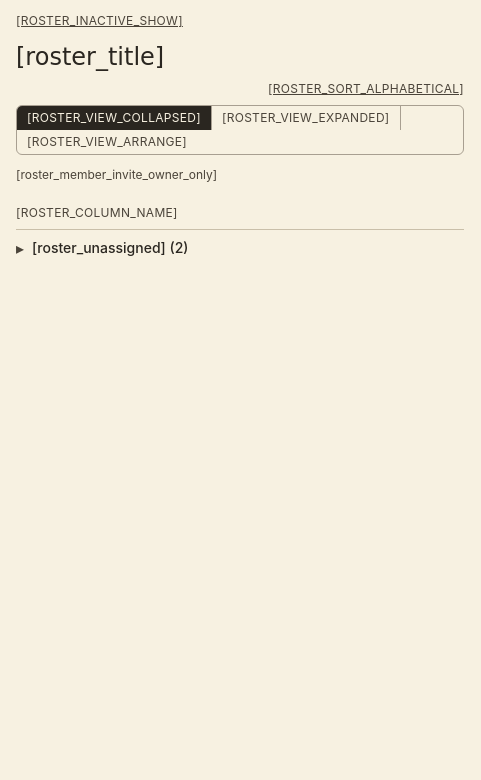
Test: (A) deactivate — admin-only, never self (done-when 7) › a collective admin sees the deactivate control on ANOTHER member's row
Click the button with test id "section-toggle-unassigned" at (110, 248), box [16,230,464,266]
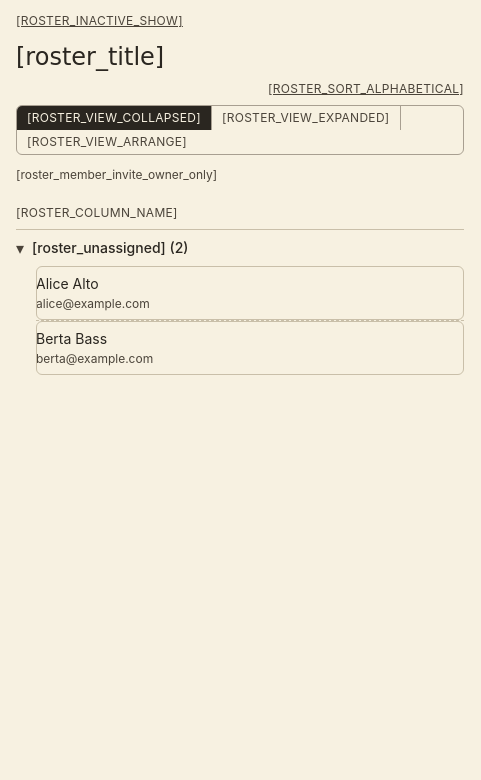
Expected: the list item with test id "roster-row-m2" is shown
Click the button without text next to "berta@example.com" at (250, 348), box [36,321,464,375]
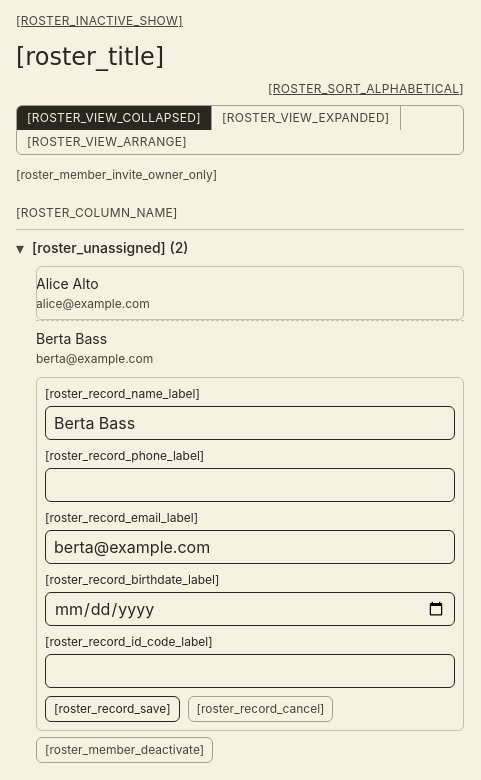
Expected: the field with test id "roster-record-name" is shown, [45,406,455,440]
Expected: the button with test id "member-deactivate-m2" is shown, [36,737,213,763]
